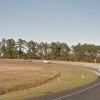Tree: (15, 32, 80, 59)
